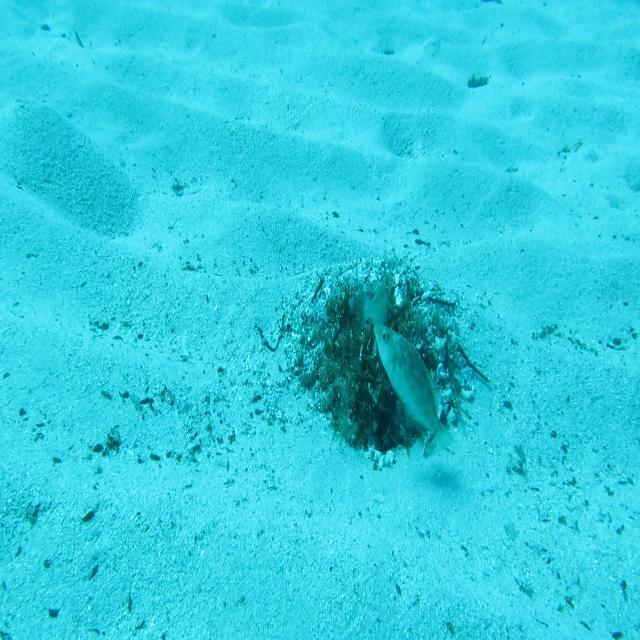GB: (371, 319, 457, 463)
female: (350, 276, 390, 345)
nest: (279, 240, 486, 483)
vegetation: (465, 72, 489, 89)
